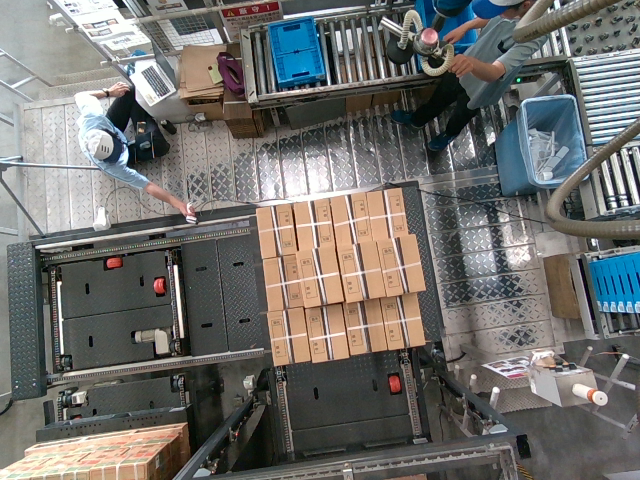box: (296, 250, 344, 308), (336, 243, 384, 301), (376, 238, 424, 296), (256, 204, 298, 257), (263, 257, 305, 310), (268, 311, 310, 364), (304, 305, 346, 358), (348, 298, 390, 351), (380, 295, 422, 348), (292, 197, 334, 250), (330, 194, 372, 247), (366, 189, 408, 242)
